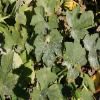Squash Powdery mildew leaf: (33, 28, 64, 68), (61, 40, 87, 79), (65, 5, 93, 40), (32, 5, 60, 36), (2, 74, 21, 98), (33, 86, 63, 99)
